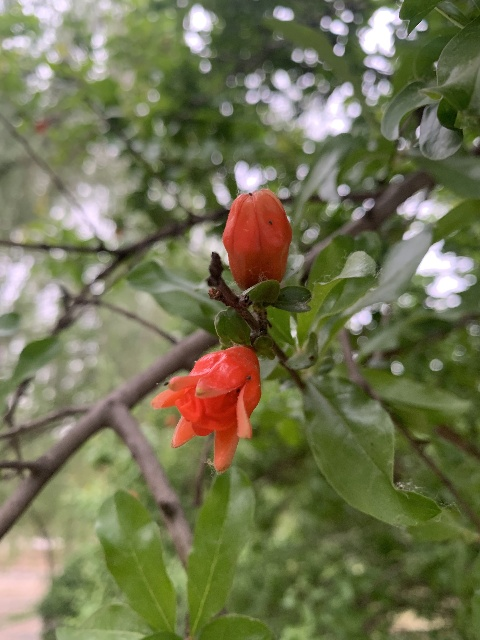bud: (222, 187, 292, 291)
flower: (150, 346, 261, 473)
